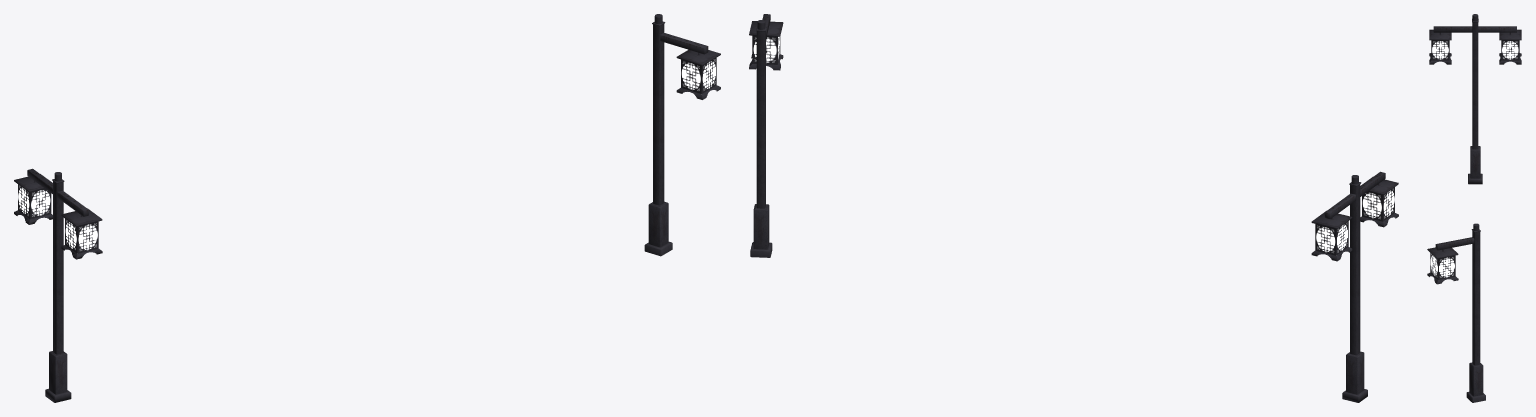
File: street_lamp.glb
3 views of the same model, side by side, from view 1: azimuth 30°, elevation 25°; view 2: azimuth 150°, elevation 25°; view 3: azimuth 270°, elevation 25° (orthographic). The views are drawn at different scales.
Parts seen in each view (by area): view 1: Object_3, Object_2.001; view 2: Object_3, Object_2.001; view 3: Object_3, Object_2.001.
Part boxes in pixels (x1,y1,x2,y2): Object_3: (14, 168, 102, 402); Object_2.001: (644, 14, 720, 256); Object_3: (1311, 171, 1398, 402); Object_2.001: (749, 14, 783, 257); Object_3: (1429, 14, 1521, 184); Object_2.001: (1427, 223, 1485, 402).
Size of the model in its own units: 12.83 by 4.43 by 2.17.
Materials: 2 (2 with a texture image).
